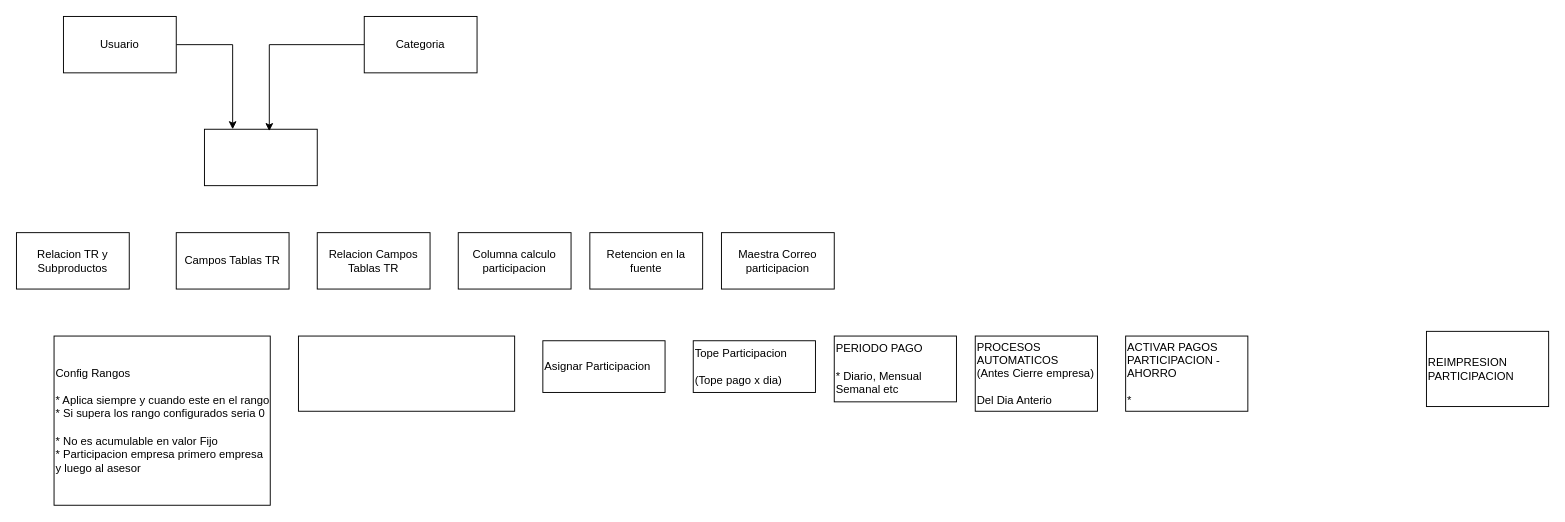
Image size: 1565x522. Some labels were removed from this diagram. Each missing label, with the centre of its shape:
"PLANTILLA PART OTRO SUBPRODUCTO" goes at point 406,373.
"Usuario-Categoria" goes at point 260,157.
